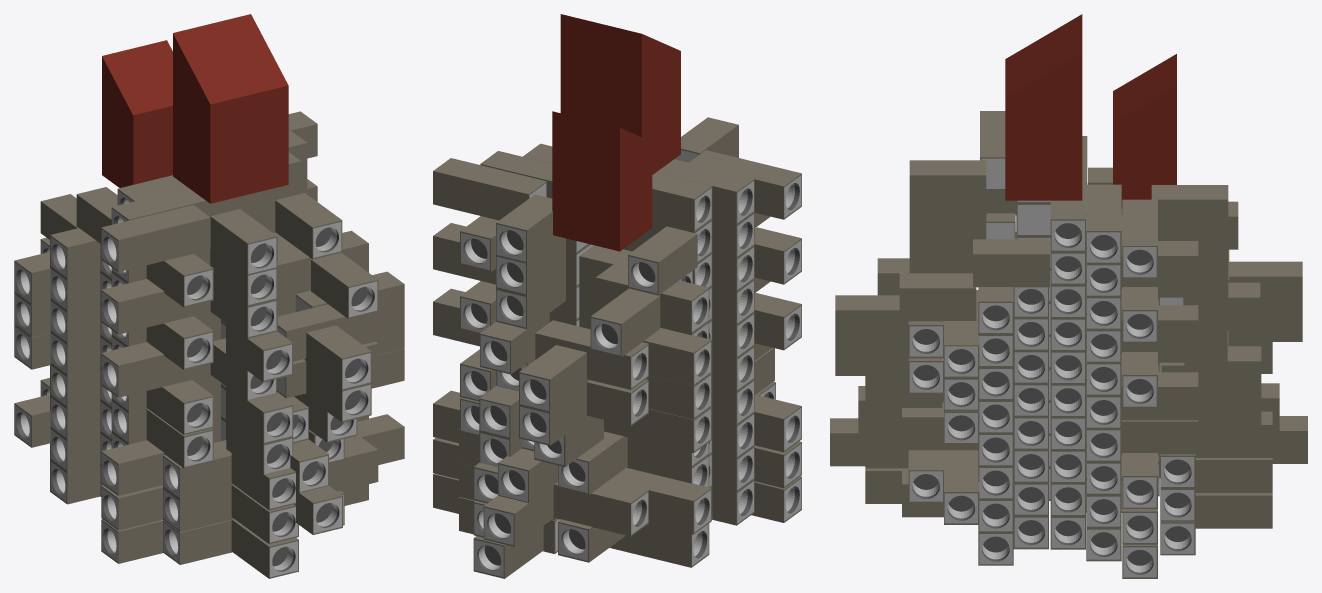
File: capsuletower 1.fbx
3 renders of one model, left to right at view 1: azimuth 30°, elevation 25°; view 2: azimuth 150°, elevation 25°; view 3: azimuth 270°, elevation 25°, orthographic. The views are drawn at different scales.
Visible parts, largest first — view 1: Cube; view 2: Cube; view 3: Cube.
Part boxes in pixels (x1,y1,x2,y2): Cube: [14, 14, 404, 578]; Cube: [433, 14, 801, 578]; Cube: [830, 14, 1307, 578].
Bounding box in the file's own units: 1913 × 3194 × 2866.
